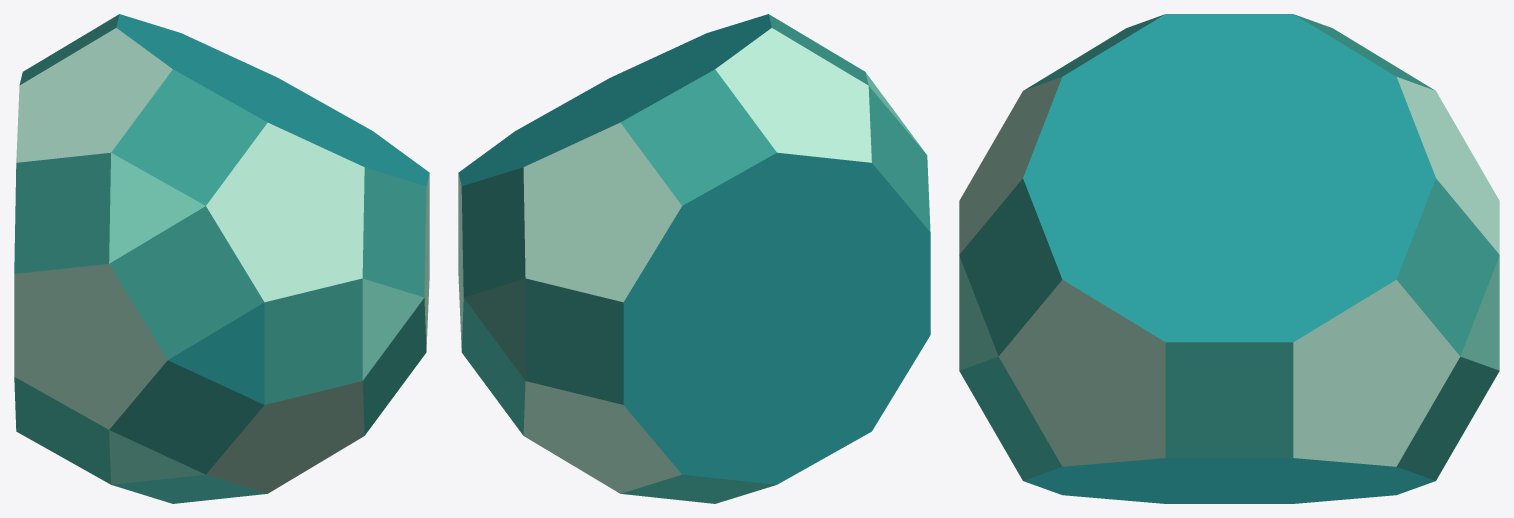
File: J83.RombicosidodecaedroTridisminuido.gltf
3 renders of one model, left to right at view 1: azimuth 30°, elevation 25°; view 2: azimuth 150°, elevation 25°; view 3: azimuth 270°, elevation 25°, orthographic. The views are drawn at different scales.
Visible parts, largest first — view 1: J83.RombicosidodecaedroTridisminuido; view 2: J83.RombicosidodecaedroTridisminuido; view 3: J83.RombicosidodecaedroTridisminuido.
Boxes of the visible parts, x1,y1,x2,y2 form: J83.RombicosidodecaedroTridisminuido: (14,14,429,503); J83.RombicosidodecaedroTridisminuido: (458,14,930,503); J83.RombicosidodecaedroTridisminuido: (959,14,1499,503).
Size of the model in its own units: 18.97 by 18.97 by 18.97.
